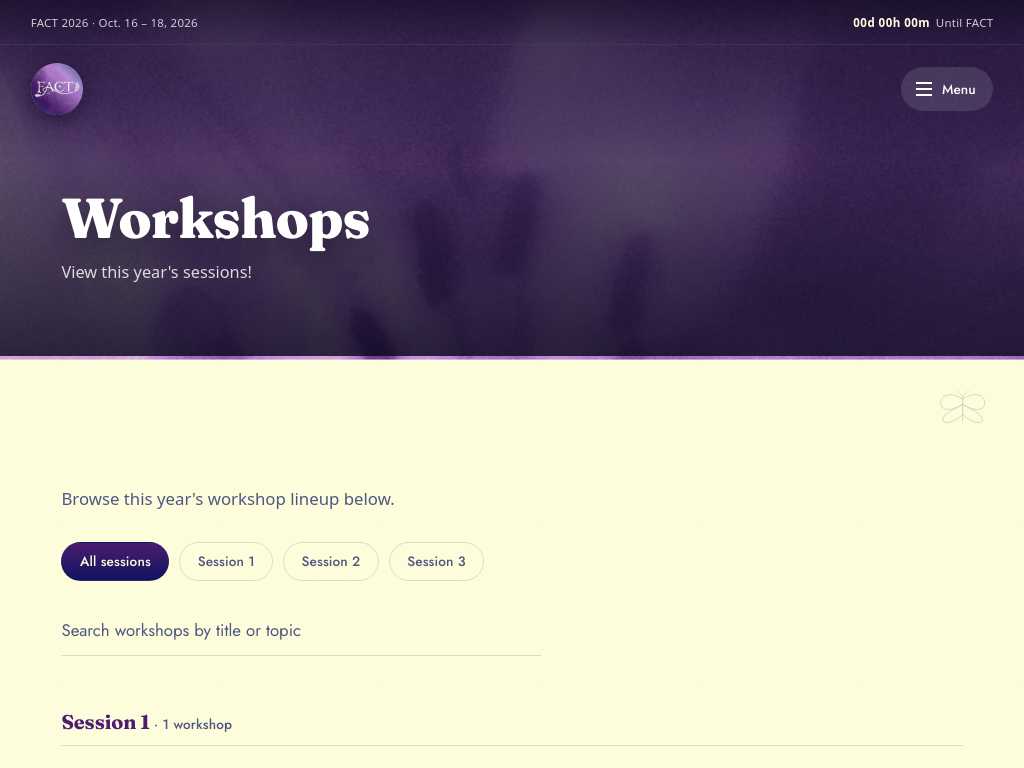
Test: Workshops page › shows the empty state when a search matches nothing
Type "zzznomatch" into the search field with placeholder "Search workshops by title or topic" at (301, 631), box [61,606,541,656]
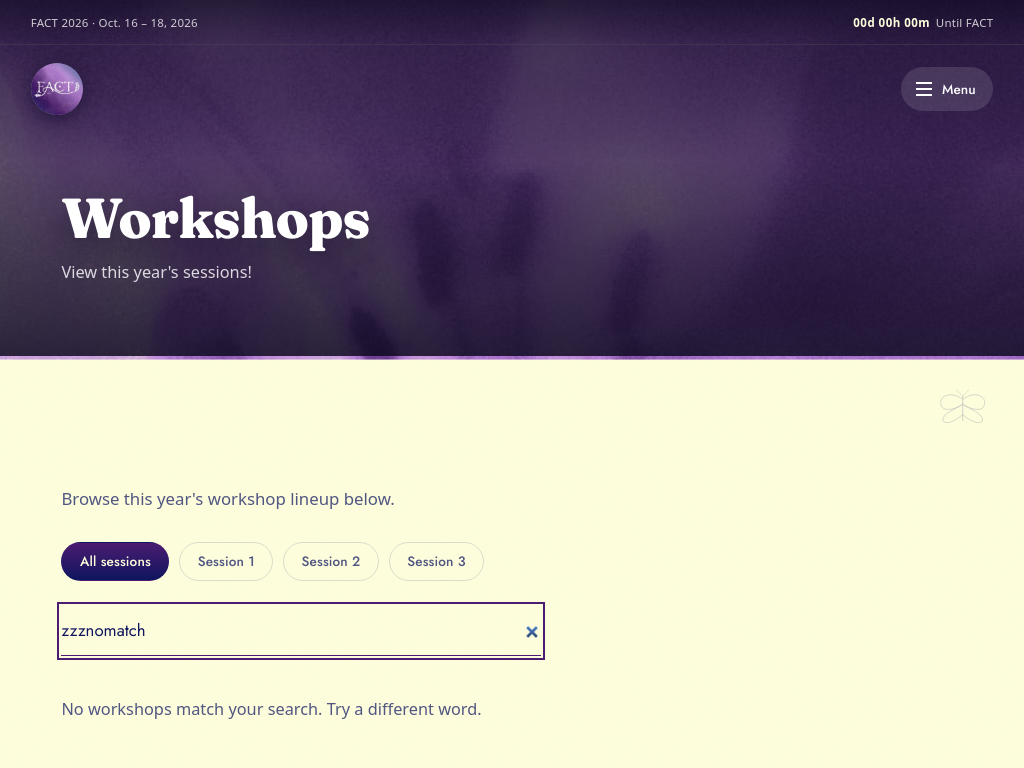
Expected: the text "No workshops match your search. Try a different word." is shown, [61,698,482,720]
